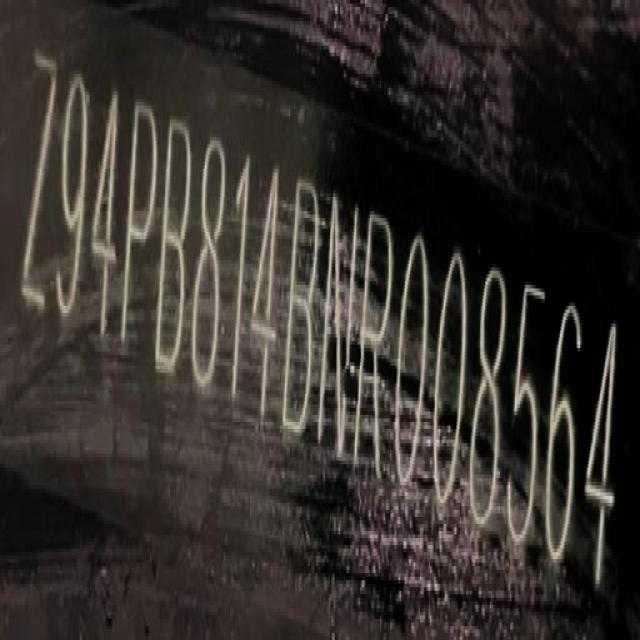0: (388, 223, 436, 500), (431, 244, 471, 511)
1: (230, 152, 252, 409)
4: (240, 160, 290, 433), (583, 315, 629, 605), (82, 76, 128, 352)
5: (506, 276, 550, 566)
6: (540, 292, 585, 578)
8: (185, 127, 232, 401), (465, 260, 509, 538)
9: (44, 60, 96, 341)
B: (150, 104, 200, 383), (282, 164, 318, 444)
N: (316, 188, 361, 468)
P: (113, 90, 165, 370)
R: (354, 207, 395, 483)
Z: (10, 43, 66, 328)
